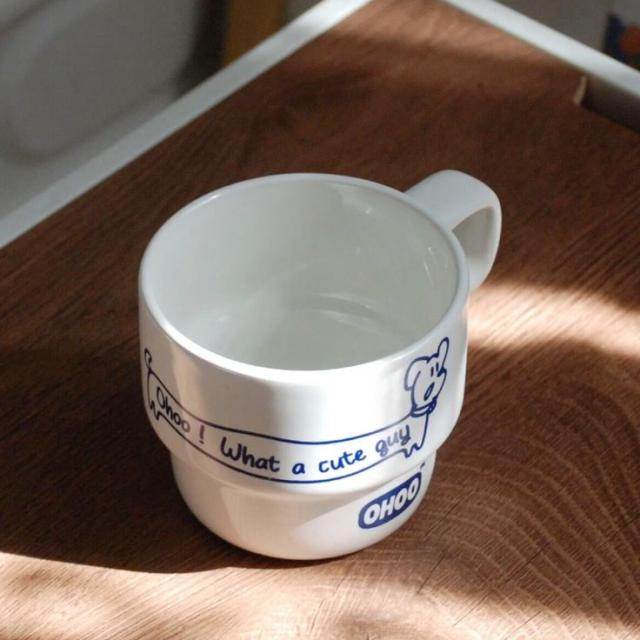glass cup: (137, 170, 502, 560)
